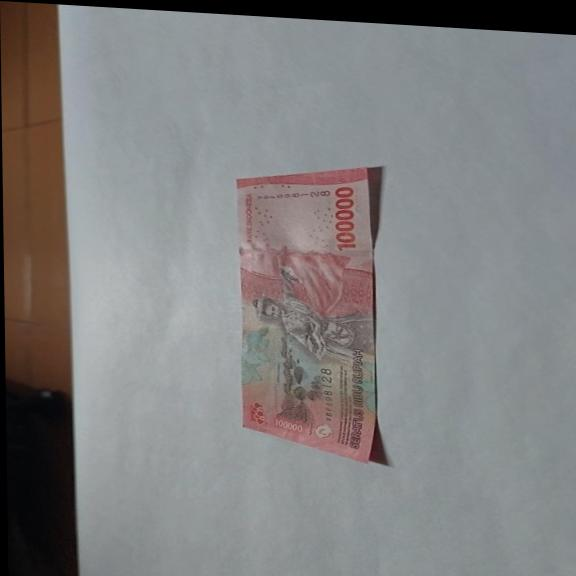Kertas: (233, 156, 387, 465), (331, 184, 358, 252)
